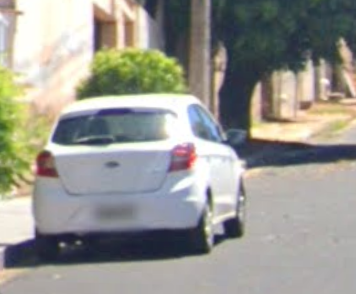car: (30, 89, 251, 254)
